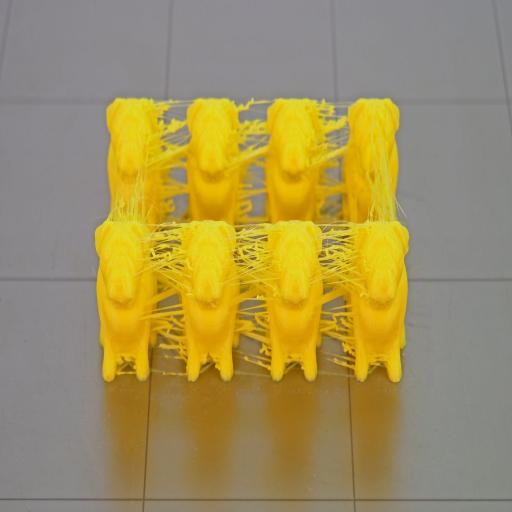stringing: (146, 218, 188, 377), (320, 220, 362, 370), (231, 220, 271, 374), (316, 94, 356, 221), (150, 98, 194, 213), (232, 92, 272, 216), (363, 142, 404, 224)
